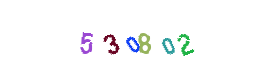2: (138, 0, 218, 80)
3: (72, 0, 152, 80)
5: (51, 0, 131, 80)
8: (94, 0, 174, 80)
O: (92, 0, 172, 80), (106, 0, 186, 80)
